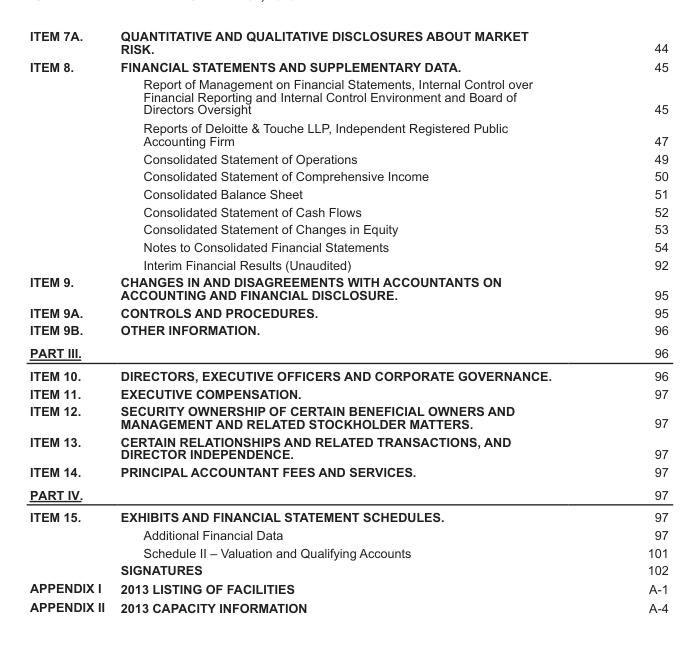table: (28, 28, 667, 614)
table column: (111, 28, 598, 614), (28, 28, 111, 614), (598, 28, 667, 614)
table column header: (28, 28, 667, 57)
table row: (28, 74, 667, 118), (28, 118, 667, 149), (28, 273, 667, 303), (28, 402, 667, 432), (28, 432, 667, 462), (28, 28, 667, 57), (28, 341, 667, 364), (28, 482, 667, 505), (28, 321, 667, 341), (28, 364, 667, 384), (28, 462, 667, 482), (28, 505, 667, 525), (28, 578, 667, 597), (28, 149, 667, 167), (28, 184, 667, 202), (28, 202, 667, 220), (28, 237, 667, 255), (28, 255, 667, 273), (28, 303, 667, 321), (28, 384, 667, 402), (28, 525, 667, 543), (28, 543, 667, 561), (28, 57, 667, 74), (28, 167, 667, 184), (28, 220, 667, 237), (28, 561, 667, 578), (28, 597, 667, 614)
table spanning cell: (28, 57, 111, 273), (28, 505, 111, 578)
